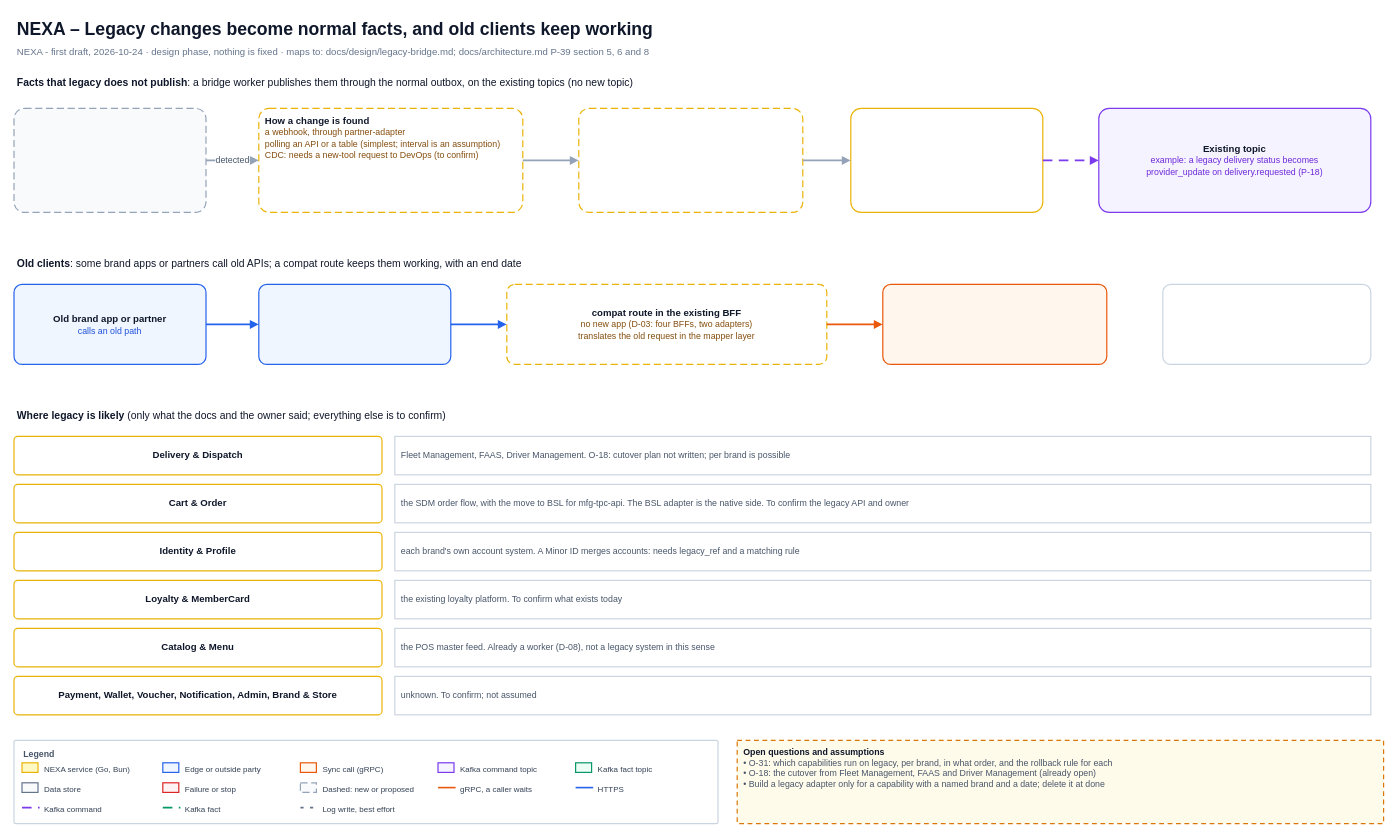
Some shapes in this 1398 by 838 pixel diagram are drawn without their labels. The shapes that lost their labels are listed below. From the top down, each one's centre as x and y in pixels, then its label:
[109,160]: Legacy system does not write to our outbox or Kafka
[690,160]: Bridge worker domain run mode worker
[946,160]: Outbox one transaction, as always
[354,324]: Kong routes the old paths to a compat/brand route group
[994,324]: Current gRPC call the same call as a new client
[1266,324]: End date listed in the brand's onboarding record; removed on migration
